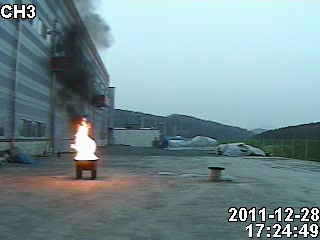fire: (68, 115, 100, 162)
